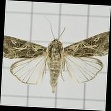Spodoptera litura: (3, 16, 108, 94)
